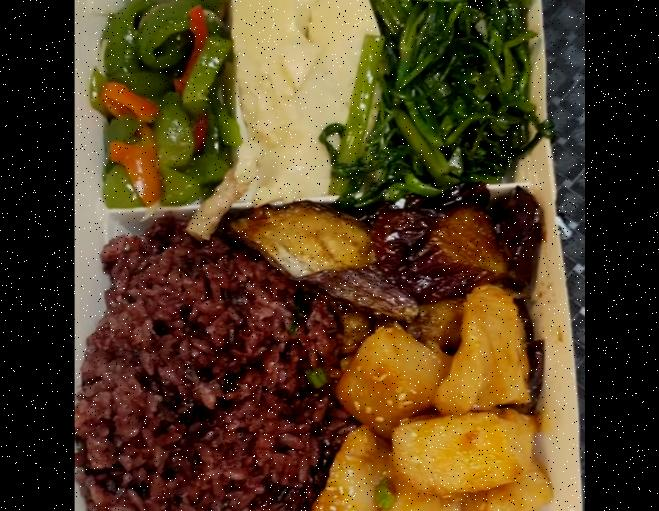box: (74, 0, 585, 511)
purple rice: (77, 224, 335, 511)
side dish: (346, 0, 526, 200), (252, 200, 541, 318), (224, 0, 370, 212), (89, 0, 233, 211)
spicy chicken: (313, 292, 553, 511)
